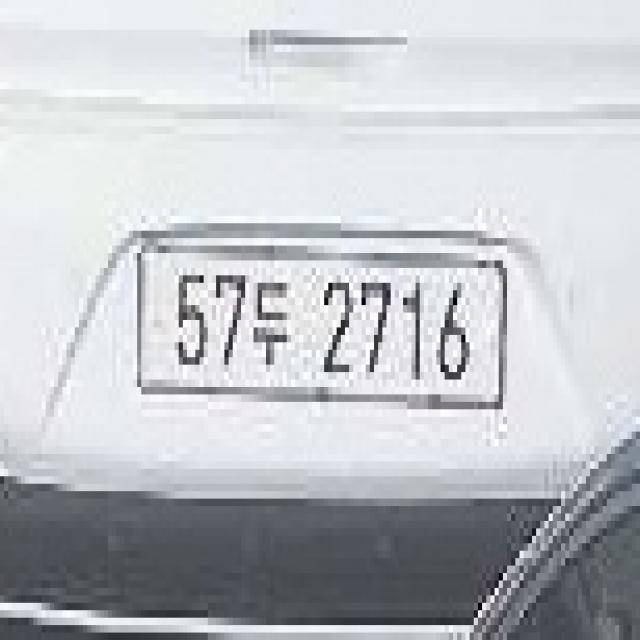1: (400, 272, 430, 380)
2: (317, 271, 353, 381)
5: (175, 270, 209, 368)
6: (436, 278, 471, 390)
7: (360, 272, 396, 380), (213, 270, 249, 366)
du: (252, 270, 288, 370)
license_plate: (132, 231, 510, 414)
